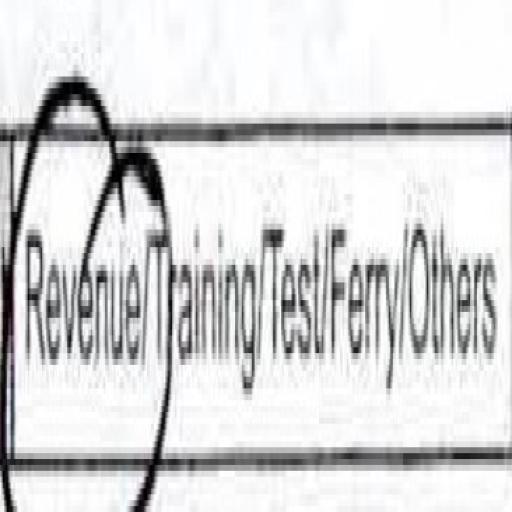check: (0, 0, 148, 511)
